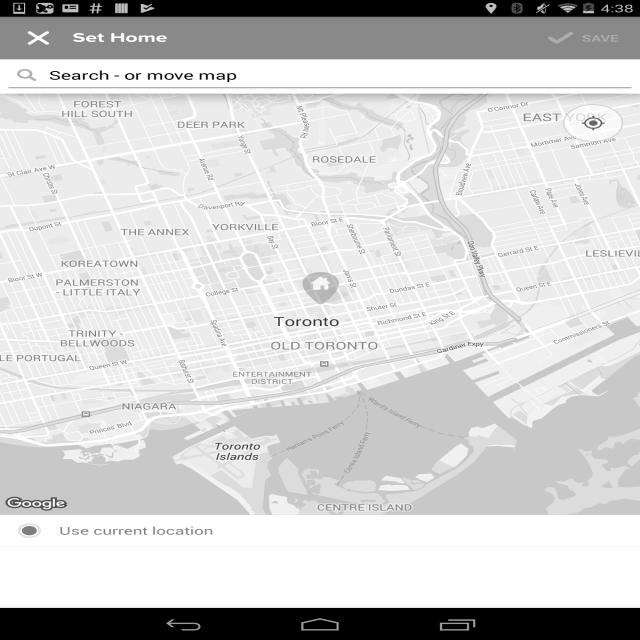EditText: (45, 64, 625, 86)
ImageButton: (9, 17, 68, 59)
ImageView: (0, 94, 640, 106), (0, 602, 640, 608), (563, 104, 623, 142), (302, 272, 348, 304), (5, 497, 70, 511), (8, 64, 45, 86)
TextView: (0, 514, 640, 546), (535, 17, 631, 59), (73, 30, 168, 46)
